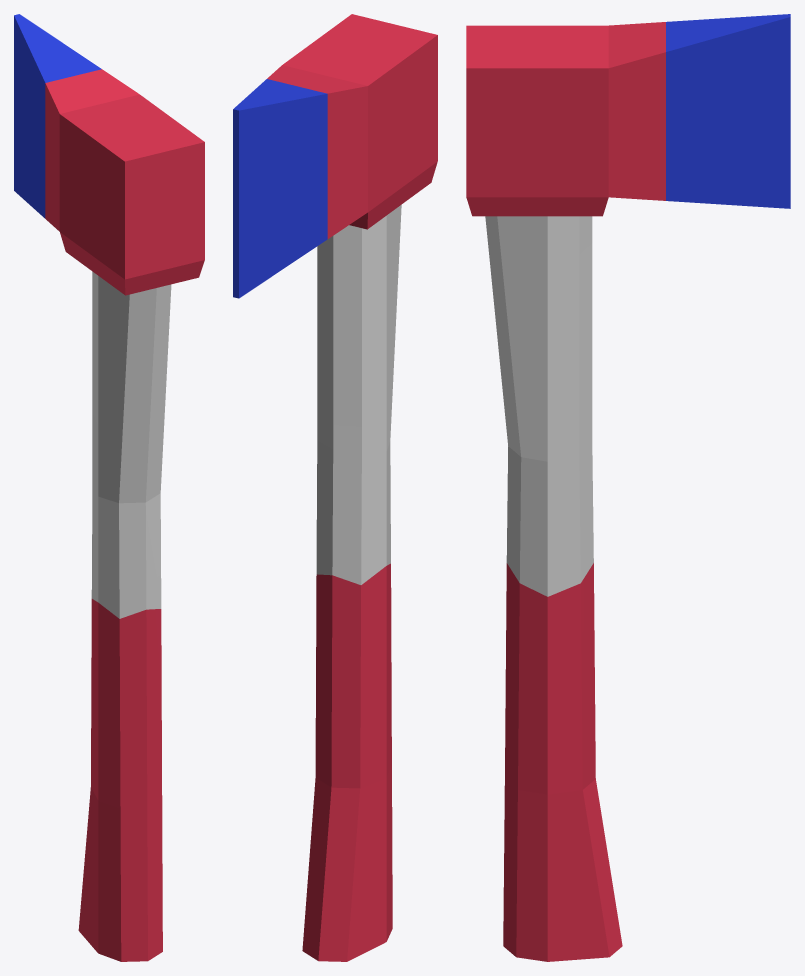
The model's file is Hatchet.fbx.
The picture shows the model from 3 angles, left to right: view 1: azimuth 30°, elevation 25°; view 2: azimuth 150°, elevation 25°; view 3: azimuth 270°, elevation 25°; orthographic projection. The views are drawn at different scales.
Visible parts, largest first — view 1: Axe; view 2: Axe; view 3: Axe.
Part boxes in pixels (<box>): Axe: <box>14,14,204,961</box>; Axe: <box>233,14,437,961</box>; Axe: <box>466,14,790,961</box>.
Size of the model in its own units: 5.22 by 52.97 by 16.73.
